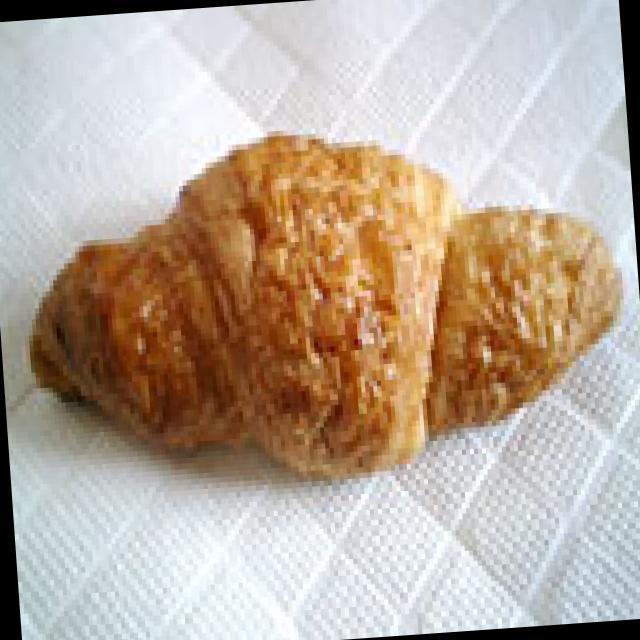Croissant: (27, 99, 640, 502)
